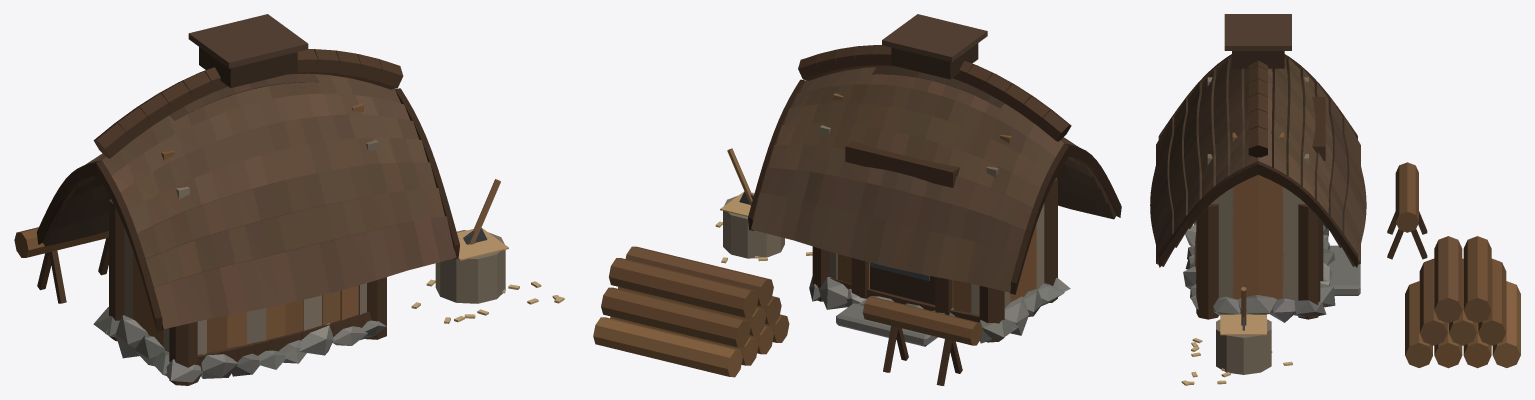
The model's file is Woodcutter.glb.
3 renders of one model, left to right at view 1: azimuth 30°, elevation 25°; view 2: azimuth 150°, elevation 25°; view 3: azimuth 270°, elevation 25°, orthographic. The views are drawn at different scales.
Visible parts, largest first — view 1: Mat_Wood_674d37, Mat_Wood_473324, Mat_Wood_412f22, Mat_Stone_7b7972, Mat_Stone_6b6964, Mat_Thatch_b79c71; view 2: Mat_Wood_674d37, Mat_Wood_473324, Mat_Wood_412f22, Mat_Stone_7b7972, Mat_Stone_6b6964, Mat_Thatch_b79c71; view 3: Mat_Wood_674d37, Mat_Wood_473324, Mat_Wood_412f22, Mat_Thatch_b79c71, Mat_Stone_7b7972, Mat_Stone_6b6964.
Boxes of the visible parts, x1=… form: Mat_Wood_674d37: x1=14, y1=14, x2=505, y2=354; Mat_Wood_473324: x1=37, y1=49, x2=454, y2=385; Mat_Wood_412f22: x1=36, y1=47, x2=459, y2=366; Mat_Stone_7b7972: x1=115, y1=315, x2=386, y2=382; Mat_Stone_6b6964: x1=93, y1=307, x2=386, y2=375; Mat_Thatch_b79c71: x1=358, y1=227, x2=564, y2=315; Mat_Wood_674d37: x1=593, y1=14, x2=1075, y2=377; Mat_Wood_473324: x1=752, y1=45, x2=1113, y2=385; Mat_Wood_412f22: x1=748, y1=43, x2=1121, y2=322; Mat_Stone_7b7972: x1=819, y1=277, x2=1070, y2=346; Mat_Stone_6b6964: x1=809, y1=276, x2=1064, y2=346; Mat_Thatch_b79c71: x1=720, y1=125, x2=830, y2=263; Mat_Wood_674d37: x1=1150, y1=14, x2=1520, y2=374; Mat_Wood_473324: x1=1158, y1=55, x2=1427, y2=319; Mat_Wood_412f22: x1=1156, y1=51, x2=1357, y2=283; Mat_Thatch_b79c71: x1=1181, y1=154, x2=1308, y2=385; Mat_Stone_7b7972: x1=1183, y1=220, x2=1360, y2=322; Mat_Stone_6b6964: x1=1185, y1=225, x2=1335, y2=322.
Bounding box in the file's own units: 13.93 × 9.48 × 12.68.
Materials: 1 (1 with a texture image).
